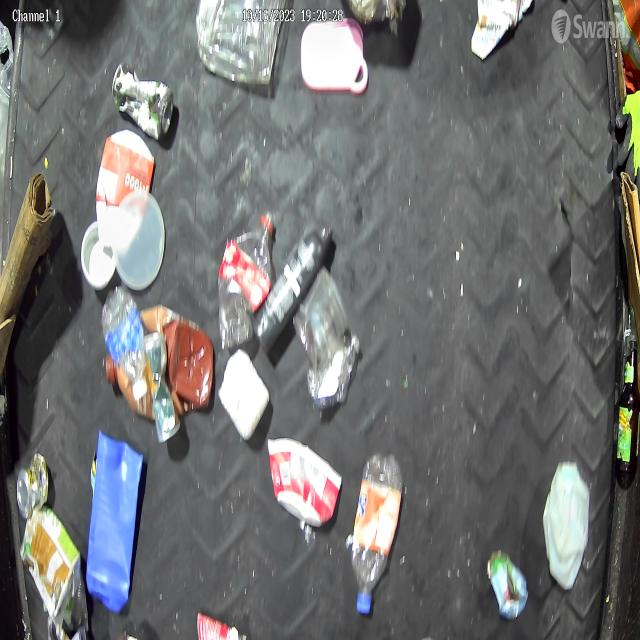can: (110, 61, 176, 144), (143, 331, 182, 446), (486, 546, 529, 622), (15, 449, 50, 522)
milk_jug: (540, 460, 592, 592)
non_white_jug: (104, 302, 215, 423), (85, 427, 144, 617)
plastic_bottle: (351, 448, 404, 620), (217, 206, 275, 352), (98, 285, 149, 402)
